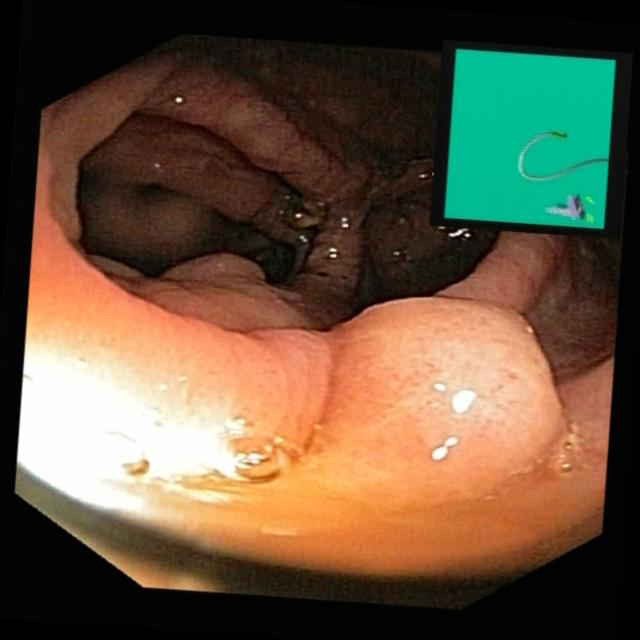Polyps: (291, 284, 566, 513)
